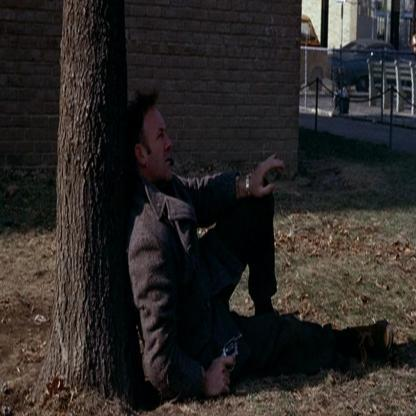gun: (216, 313, 257, 384)
